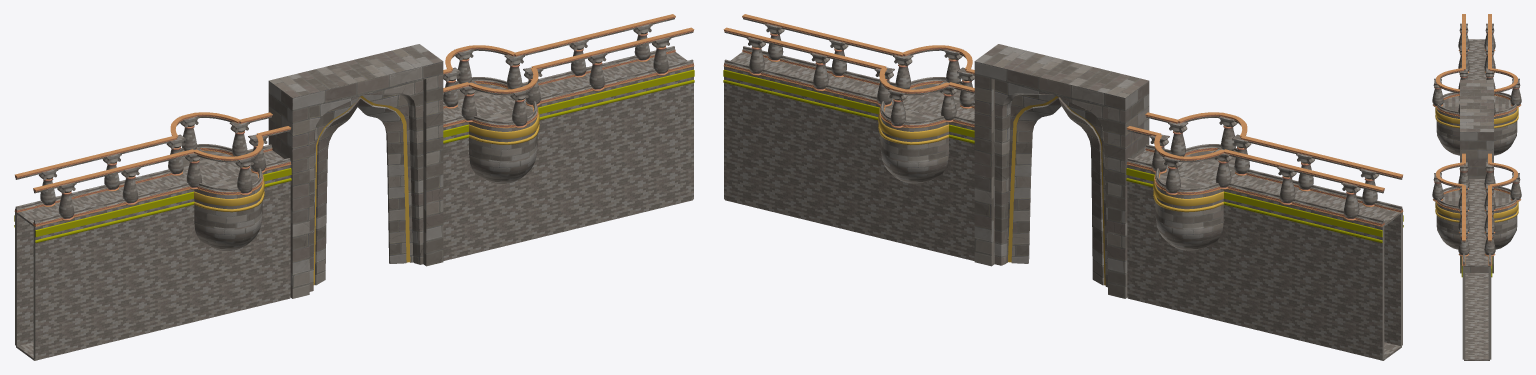
File: wall_southwall_1.fbx
3 views of the same model, side by side, from view 1: azimuth 30°, elevation 25°; view 2: azimuth 150°, elevation 25°; view 3: azimuth 270°, elevation 25° (orthographic). The views are drawn at different scales.
Visible parts, largest first — view 1: gate_frame_3, wall_pill_mid_flat:polySurface933polySurface920polySurface91, polySurface933polySurface920polySurface914, polySurface1058, wall_pill_mid_flat:polySurface939, SM_Bld_Castle_Wall_178, SM_Bld_Castle_Wall_181, SM_Bld_Castle_Wall_180, SM_Bld_Castle_Wall_154, SM_Bld_Castle_Wall_165, SM_Bld_Castle_Wall_157, SM_Bld_Castle_Wall_156 (+54 smaller); view 2: gate_frame_3, polySurface933polySurface920polySurface913 (×2), polySurface939 (×2), SM_Bld_Castle_Wall_179, SM_Bld_Castle_Wall_182, SM_Bld_Castle_Wall_177, SM_Bld_Castle_Wall_155, SM_Bld_Castle_Wall_161, SM_Bld_Castle_Wall_158, SM_Bld_Castle_Wall_153, SM_Bld_Castle_Wall_166, SM_Bld_Castle_Wall_129 (+52 smaller); view 3: gate_frame_3, polySurface933polySurface920polySurface913 (×2), polySurface939 (×2), pillar_classic_bottom5 (×2), floor_half_round4 (×2), polySurface933polySurface920polySurface914, wall_pill_mid_flat:polySurface933polySurface920polySurface91, SM_Bld_Castle_Floor_Stone_76, wall_pill_mid_flat:polySurface939, polySurface1058, SM_Bld_Castle_Floor_Stone_77, pillar_classic_bottom4 (×2) (+51 smaller).
Boxes of the visible parts, x1,y1,x2,y2 form: gate_frame_3: [268, 44, 443, 298]; wall_pill_mid_flat:polySurface933polySurface920polySurface91: [469, 118, 537, 161]; polySurface933polySurface920polySurface914: [194, 184, 262, 228]; polySurface1058: [194, 215, 262, 250]; wall_pill_mid_flat:polySurface939: [469, 147, 537, 183]; SM_Bld_Castle_Wall_178: [33, 252, 67, 292]; SM_Bld_Castle_Wall_181: [33, 319, 67, 359]; SM_Bld_Castle_Wall_180: [33, 285, 67, 326]; SM_Bld_Castle_Wall_154: [131, 228, 163, 269]; SM_Bld_Castle_Wall_165: [99, 303, 131, 344]; SM_Bld_Castle_Wall_157: [131, 295, 163, 336]; SM_Bld_Castle_Wall_156: [131, 262, 163, 302]; gate_frame_3: [974, 44, 1149, 298]; polySurface933polySurface920polySurface913 (×2): [880, 117, 1223, 228]; polySurface939 (×2): [880, 147, 1223, 250]; SM_Bld_Castle_Wall_179: [1350, 252, 1384, 292]; SM_Bld_Castle_Wall_182: [1350, 285, 1384, 326]; SM_Bld_Castle_Wall_177: [1350, 319, 1384, 359]; SM_Bld_Castle_Wall_155: [1254, 228, 1286, 269]; SM_Bld_Castle_Wall_161: [1286, 303, 1318, 344]; SM_Bld_Castle_Wall_158: [1254, 262, 1286, 302]; SM_Bld_Castle_Wall_153: [1254, 295, 1286, 336]; SM_Bld_Castle_Wall_166: [1286, 270, 1318, 310]; SM_Bld_Castle_Wall_129: [1158, 272, 1190, 312]; gate_frame_3: [1460, 80, 1493, 273]; polySurface933polySurface920polySurface913 (×2): [1494, 108, 1517, 233]; polySurface939 (×2): [1493, 131, 1517, 249]; pillar_classic_bottom5 (×2): [1510, 78, 1521, 201]; floor_half_round4 (×2): [1442, 95, 1511, 205]; polySurface933polySurface920polySurface914: [1436, 108, 1459, 139]; wall_pill_mid_flat:polySurface933polySurface920polySurface91: [1436, 203, 1459, 233]; SM_Bld_Castle_Floor_Stone_76: [1464, 348, 1489, 360]; wall_pill_mid_flat:polySurface939: [1436, 225, 1460, 249]; polySurface1058: [1436, 131, 1459, 155]; SM_Bld_Castle_Floor_Stone_77: [1464, 254, 1489, 266]; pillar_classic_bottom4 (×2): [1484, 67, 1495, 189].
Size of the model in its own units: 103 by 30.27 by 17.17.
